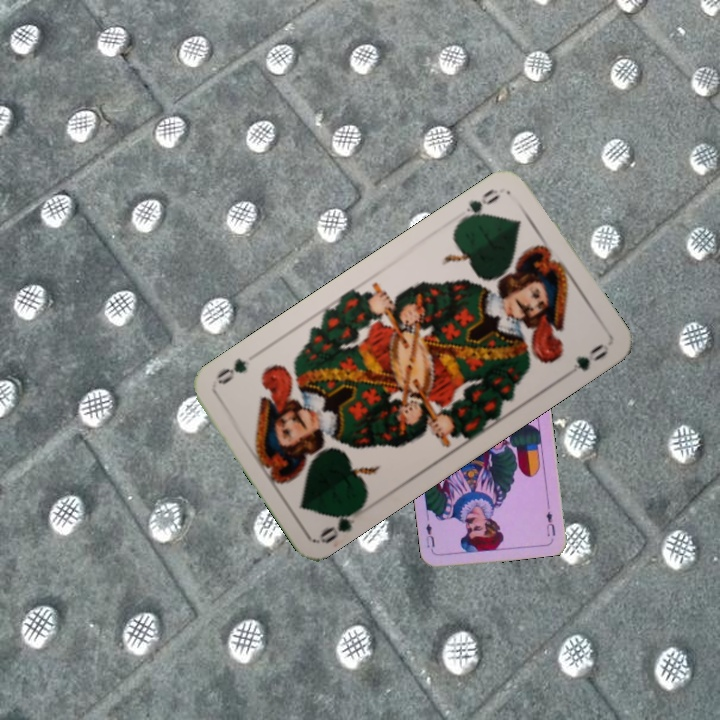EU: (542, 507, 558, 539)
GO: (316, 500, 367, 546), (456, 184, 504, 226)
